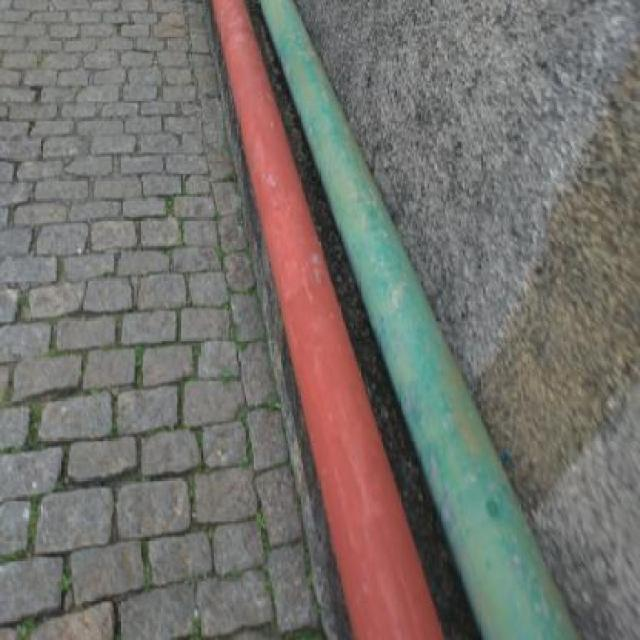gas: (259, 0, 575, 635), (213, 1, 447, 640)
